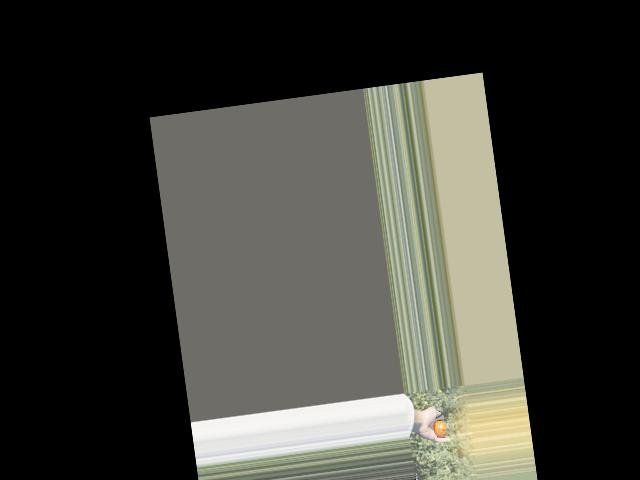tomato: (433, 420, 449, 438)
